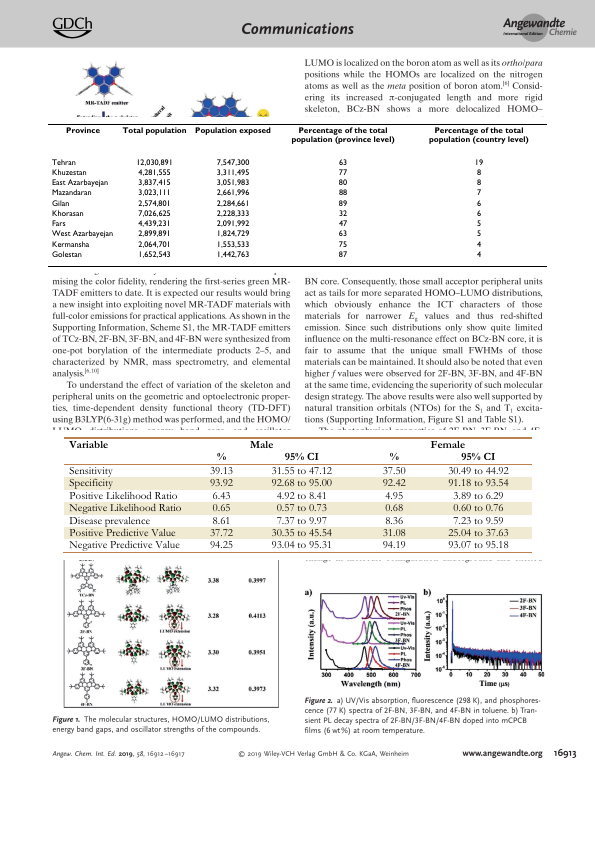borderless: (47, 122, 547, 266), (64, 435, 532, 552)
cell: (290, 127, 395, 145), (428, 127, 529, 145), (68, 503, 182, 515), (68, 540, 180, 552), (68, 490, 178, 502), (68, 528, 176, 540), (68, 515, 150, 527), (270, 466, 332, 478), (447, 466, 509, 478), (270, 478, 332, 490), (447, 478, 509, 490), (270, 528, 332, 540), (447, 528, 509, 540), (270, 540, 332, 552), (447, 540, 509, 552), (194, 127, 271, 136), (275, 490, 327, 502), (452, 490, 504, 502), (275, 503, 327, 515), (452, 503, 504, 515), (275, 515, 327, 527), (452, 515, 504, 527), (121, 127, 187, 136), (50, 230, 114, 239), (68, 466, 113, 478), (68, 478, 113, 490), (50, 179, 109, 188), (68, 439, 109, 449), (50, 240, 90, 250), (135, 158, 173, 168), (50, 189, 92, 198), (50, 168, 87, 178), (429, 439, 465, 449), (215, 158, 250, 168), (215, 168, 250, 178), (215, 199, 250, 209), (215, 209, 250, 219), (215, 240, 250, 250), (215, 250, 250, 260), (137, 168, 171, 178), (137, 199, 171, 209), (50, 209, 84, 219), (137, 209, 171, 219), (137, 240, 171, 250), (137, 250, 171, 260), (283, 452, 319, 461), (460, 452, 496, 461), (50, 250, 82, 260), (65, 127, 100, 136), (215, 179, 250, 188), (215, 189, 250, 198), (215, 220, 250, 229), (215, 230, 250, 239), (137, 179, 171, 188), (137, 189, 171, 198), (137, 220, 171, 229), (137, 230, 171, 239), (208, 466, 233, 478), (381, 466, 406, 478), (208, 478, 233, 490), (381, 478, 406, 490), (208, 528, 233, 540), (381, 528, 406, 540), (208, 540, 233, 552), (381, 540, 406, 552), (248, 439, 274, 449), (50, 158, 76, 168), (211, 490, 231, 502), (211, 503, 231, 515), (211, 515, 231, 527), (384, 490, 403, 502), (384, 503, 403, 515), (384, 515, 403, 527), (50, 199, 70, 209), (50, 220, 66, 229), (337, 158, 348, 168), (473, 158, 484, 168), (337, 168, 348, 178), (337, 199, 348, 209), (337, 209, 348, 219), (337, 240, 348, 250), (337, 250, 348, 260), (215, 452, 226, 461), (388, 452, 399, 461), (337, 179, 348, 188), (337, 189, 348, 198), (337, 220, 348, 229), (337, 230, 348, 239), (475, 209, 482, 219), (475, 250, 482, 260), (475, 179, 482, 188), (475, 189, 482, 198), (475, 220, 482, 229), (475, 230, 482, 239), (475, 168, 481, 178), (475, 199, 481, 209), (475, 240, 481, 250)
